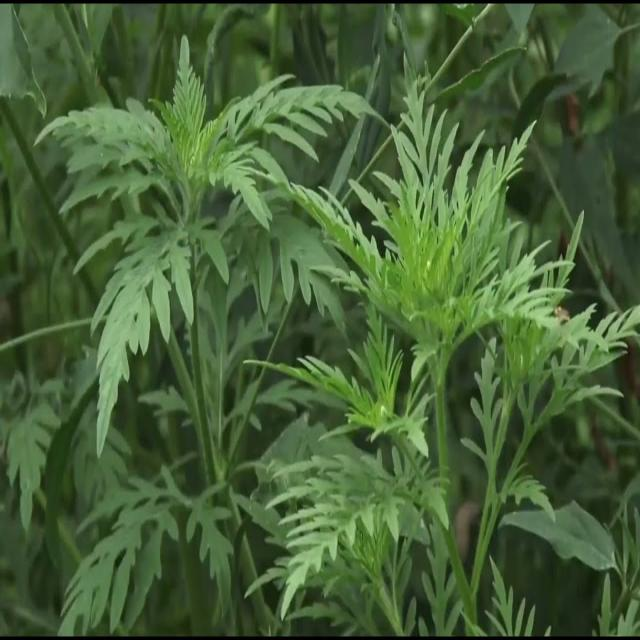ambrosia: (66, 49, 318, 372), (328, 55, 524, 404)
